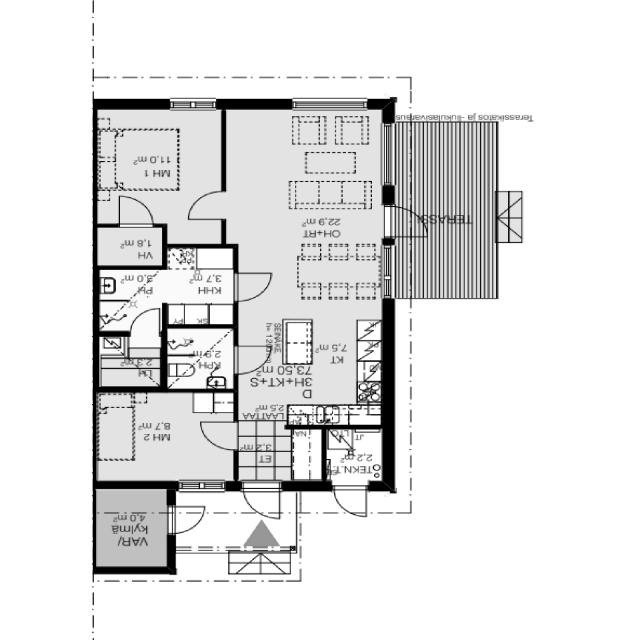door: (383, 200, 434, 252), (176, 186, 235, 226), (238, 481, 289, 522), (323, 486, 380, 521), (190, 419, 246, 454), (227, 268, 274, 304), (110, 198, 164, 226), (234, 342, 274, 378), (163, 506, 206, 534), (129, 309, 163, 335)
window: (372, 243, 407, 300), (283, 95, 373, 112), (162, 477, 236, 497), (382, 116, 398, 190), (157, 98, 223, 112)
zone: (221, 99, 391, 432), (92, 110, 226, 225), (92, 386, 241, 480), (93, 268, 245, 330), (161, 327, 243, 394)
